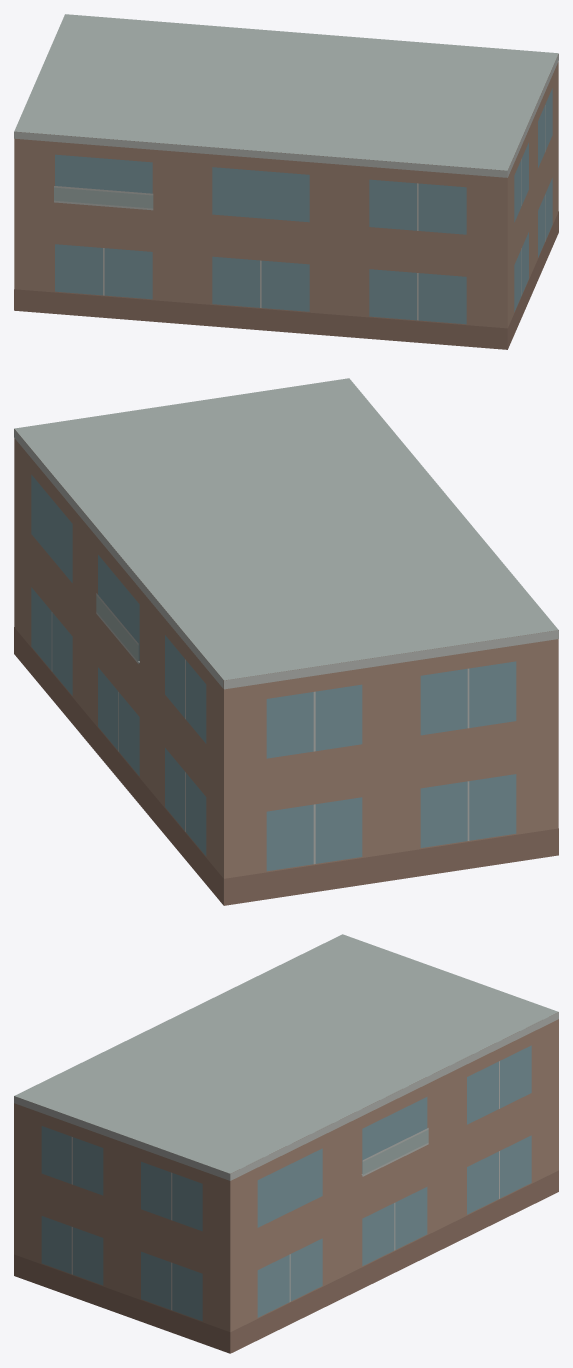
The model's file is survey-upis-32808896.glb.
3 renders of one model, top to bottom at view 1: azimuth 30°, elevation 25°; view 2: azimuth 150°, elevation 25°; view 3: azimuth 270°, elevation 25°, orthographic. The views are drawn at different scales.
Visible parts, largest first — view 1: survey-upis-32808896.tmp; view 2: survey-upis-32808896.tmp; view 3: survey-upis-32808896.tmp.
Boxes of the visible parts, left/top/right/bottom form: survey-upis-32808896.tmp: left=14, top=14, right=558, bottom=349; survey-upis-32808896.tmp: left=14, top=378, right=558, bottom=905; survey-upis-32808896.tmp: left=14, top=934, right=558, bottom=1353.
Size of the model in its own units: 17.43 by 6.1 by 16.75.
